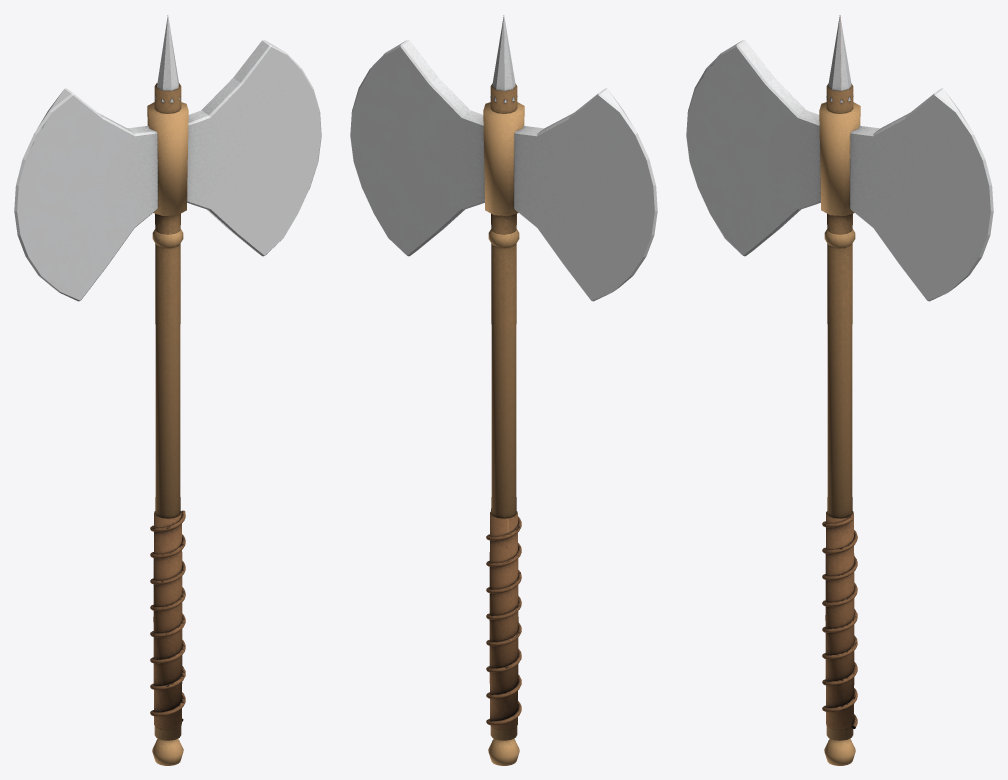
File: arma_machado_guerra_refinada.glb
The picture shows the model from 3 angles, left to right: view 1: azimuth 30°, elevation 25°; view 2: azimuth 150°, elevation 25°; view 3: azimuth 330°, elevation 25°; orthographic projection.
Visible parts, largest first — view 1: arma_machado_guerra_refinada; view 2: arma_machado_guerra_refinada; view 3: arma_machado_guerra_refinada.
Boxes of the visible parts, <box> form: arma_machado_guerra_refinada: <box>14,15,321,765</box>; arma_machado_guerra_refinada: <box>350,15,657,765</box>; arma_machado_guerra_refinada: <box>686,15,993,765</box>.
Size of the model in its own units: 0.5801 by 1.35 by 0.07.
1 material, 1 textured.
